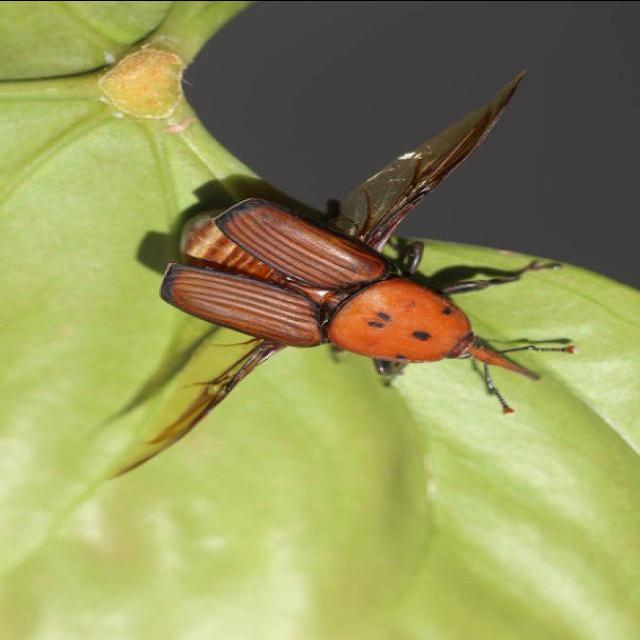Red-palm-weevil: (84, 132, 552, 472)
